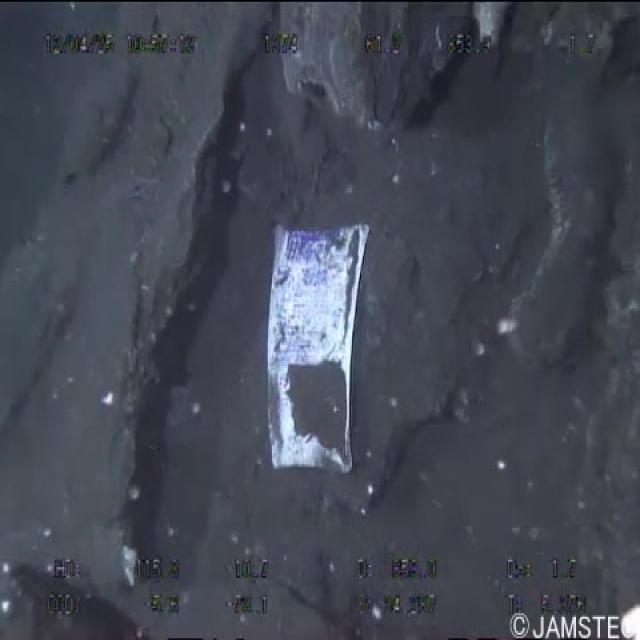plastic: (259, 213, 380, 489)
